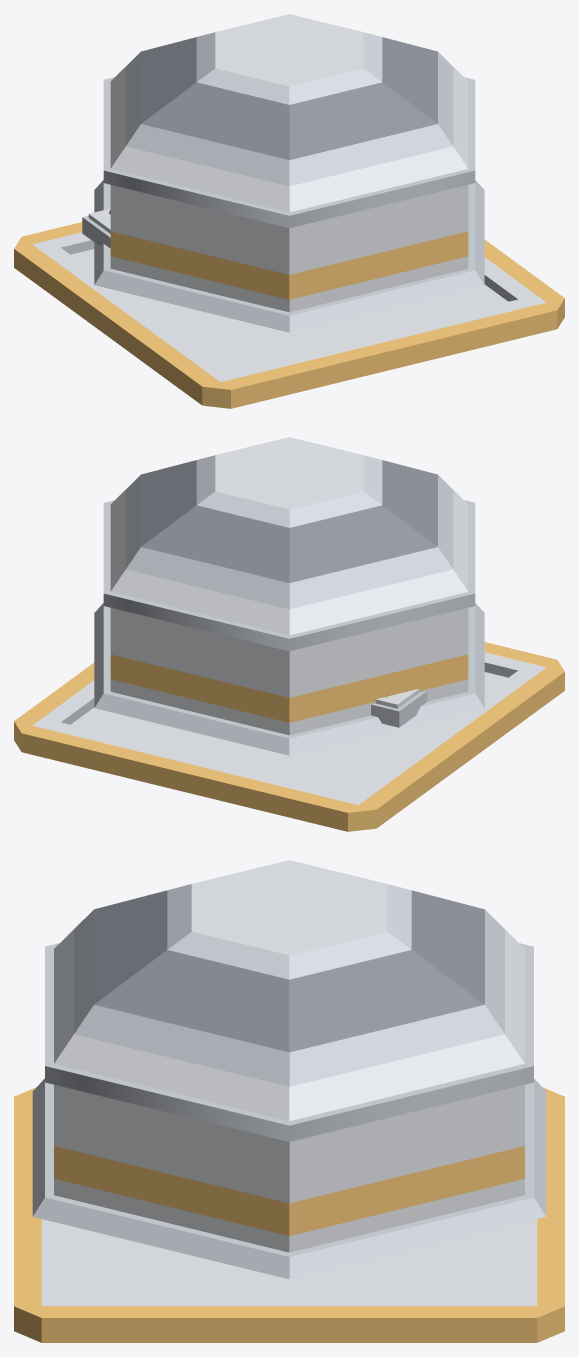
File: building_resource_processor.glb
The picture shows the model from 3 angles, top to bottom: view 1: azimuth 30°, elevation 25°; view 2: azimuth 150°, elevation 25°; view 3: azimuth 270°, elevation 25°; orthographic projection. The views are drawn at different scales.
Parts seen in each view (by area): view 1: hangar_roundA, platform_large.001, machine_generatorLarge; view 2: hangar_roundA, platform_large.001, machine_generatorLarge; view 3: hangar_roundA, platform_large.001.
Boxes of the visible parts, x1=… form: hangar_roundA: x1=94, y1=14, x2=484, y2=332; platform_large.001: x1=14, y1=222, x2=564, y2=408; machine_generatorLarge: x1=82, y1=208, x2=110, y2=248; hangar_roundA: x1=94, y1=437, x2=484, y2=755; platform_large.001: x1=14, y1=642, x2=564, y2=831; machine_generatorLarge: x1=371, y1=688, x2=427, y2=727; hangar_roundA: x1=32, y1=860, x2=546, y2=1279; platform_large.001: x1=14, y1=1087, x2=564, y2=1342.
Bounding box in the file's own units: 4.3 × 2.55 × 4.
